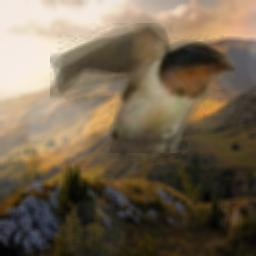Swallow: (50, 23, 235, 153)
